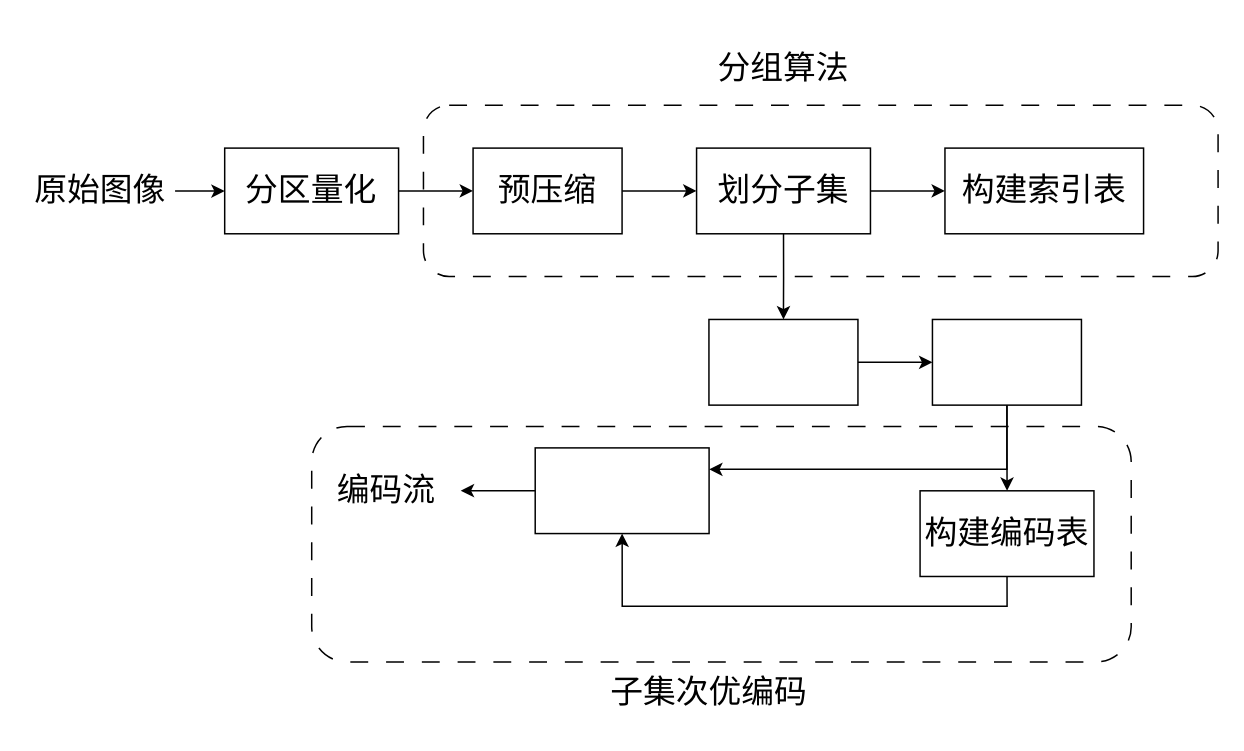
This 1244x751 diagram has some shape labels left out. Here are the shapes that lost their labels. From the top down, the centre of each, then its label:
point (782, 361): 模型推理
point (1006, 361): 无损校验
point (621, 490): 子集内编码
